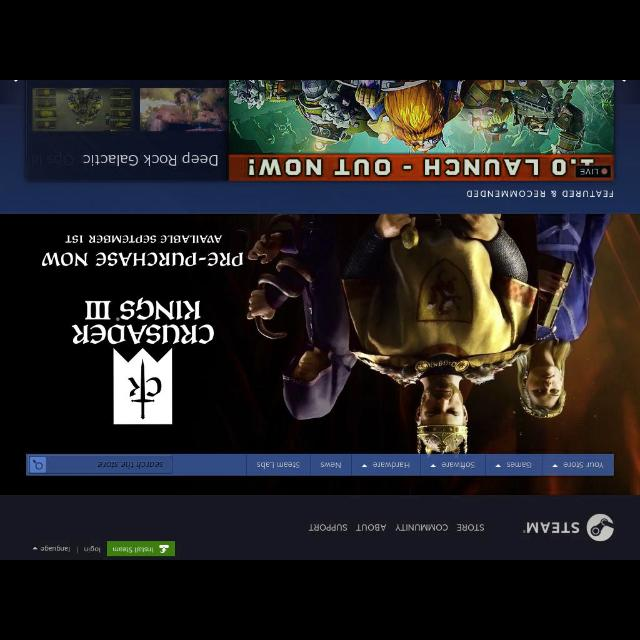backgroundimage: (5, 216, 638, 496)
icon: (32, 459, 42, 471), (494, 460, 504, 468), (550, 460, 560, 468), (32, 546, 38, 550), (362, 462, 366, 468), (432, 462, 436, 466)
image: (230, 83, 610, 177), (31, 86, 225, 132), (522, 508, 616, 544)
input: (29, 456, 174, 474)
spinner: (430, 459, 480, 471), (550, 458, 602, 469), (490, 459, 536, 468), (31, 544, 71, 554)
text: (82, 154, 220, 166), (463, 190, 612, 197), (94, 458, 164, 469), (394, 521, 450, 533), (258, 460, 300, 470), (308, 522, 348, 532), (374, 459, 411, 469), (456, 522, 486, 532), (356, 523, 386, 533), (316, 460, 342, 470), (441, 462, 477, 468), (84, 545, 102, 555), (40, 546, 70, 552)
textbutton: (105, 540, 175, 556)
toolbar: (2, 497, 640, 559), (26, 454, 612, 474)
